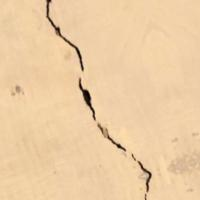crack: (36, 0, 167, 199)
